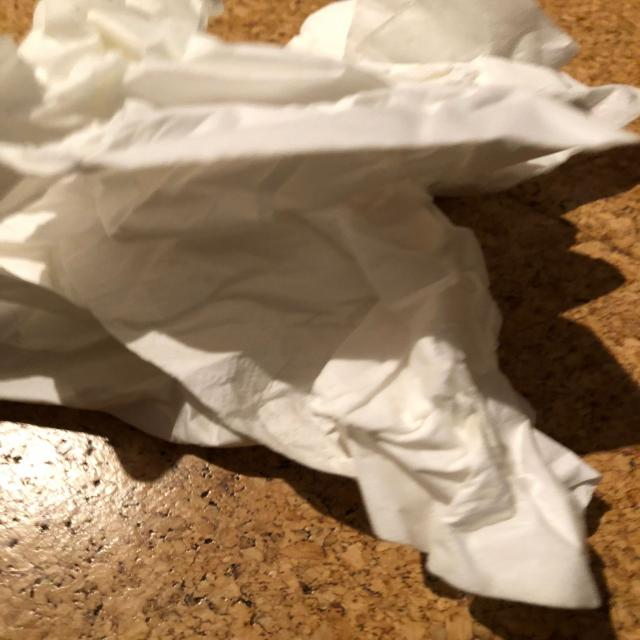kitchen paper: (0, 231, 606, 614), (0, 0, 640, 234)
